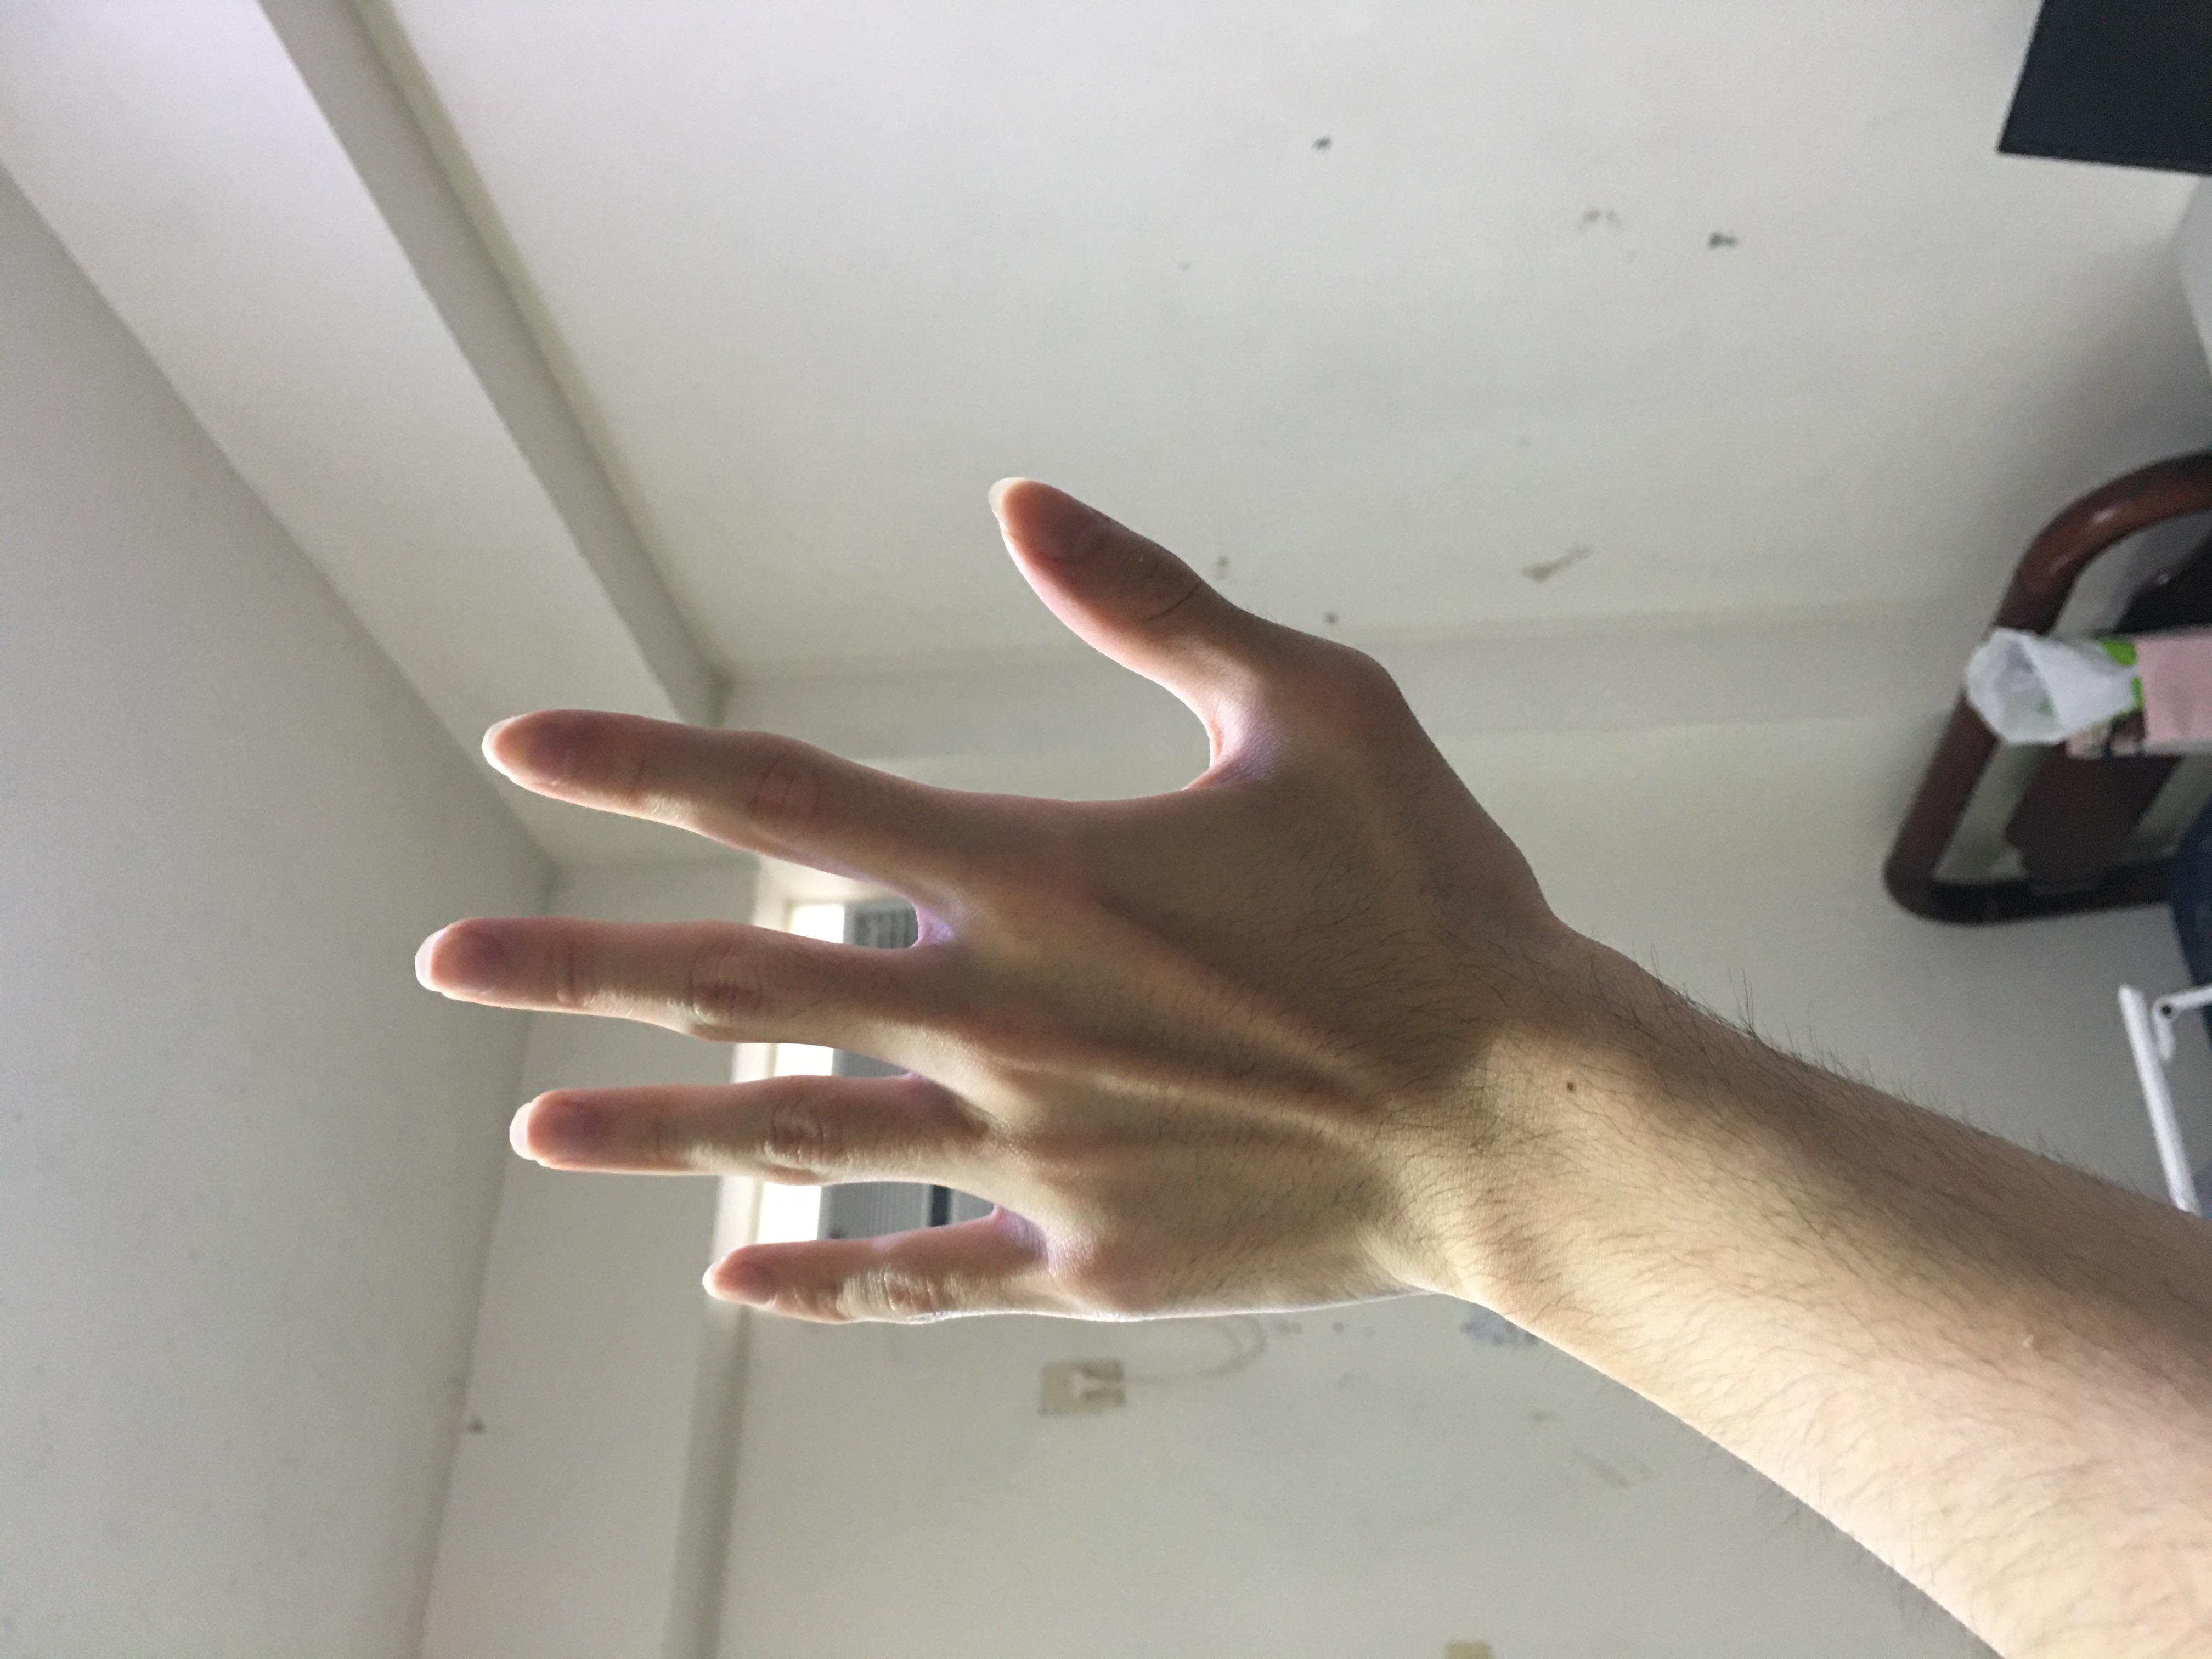hand: (439, 305, 1584, 1118)
